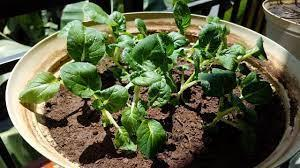Healthy-Pechay: (196, 65, 272, 128), (127, 33, 175, 73), (64, 21, 107, 65), (17, 71, 61, 106), (136, 117, 166, 159), (195, 20, 228, 57), (91, 84, 129, 114), (236, 36, 267, 64), (82, 1, 113, 26), (112, 125, 136, 152), (145, 104, 171, 122), (198, 106, 219, 125), (134, 18, 148, 37), (206, 15, 224, 26)
